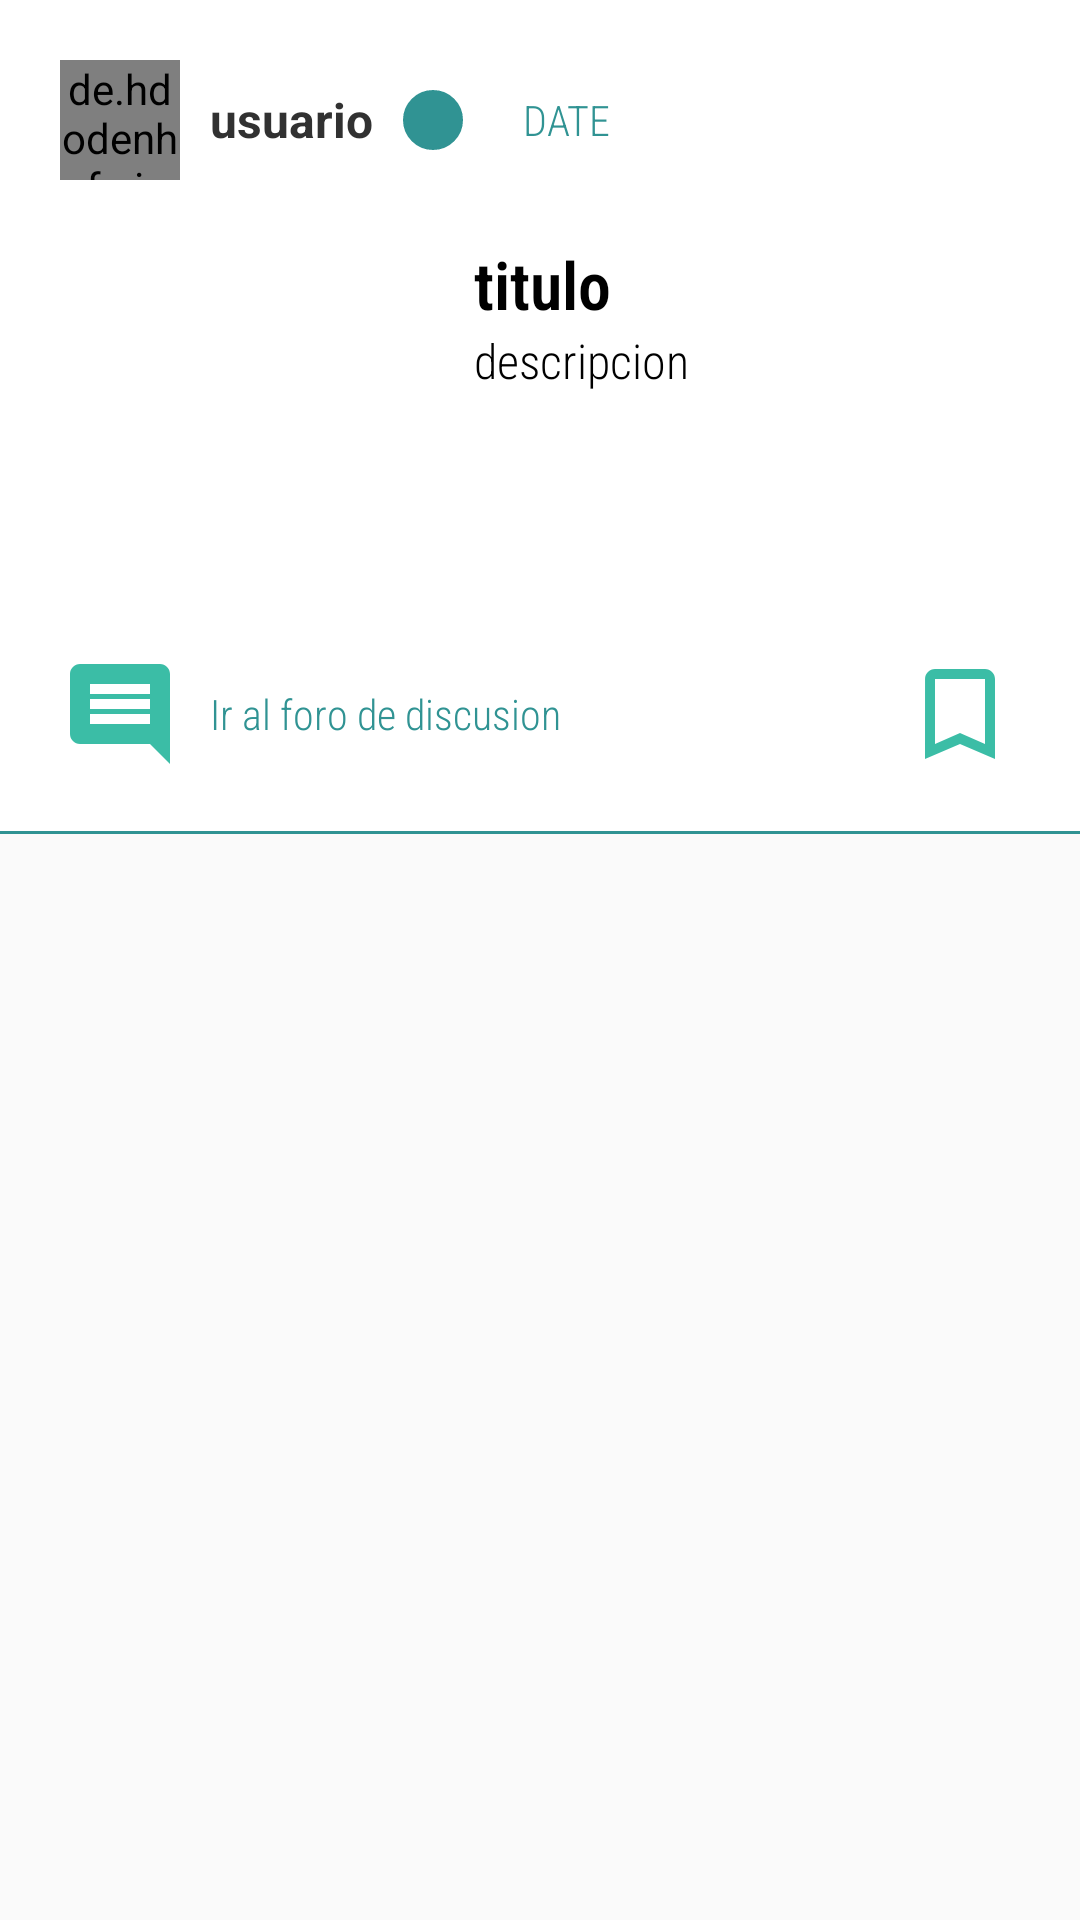

Icon click points for this 1080w x 1920h phone screenshot, format [x,y]:
comment: [120,714]
save: [960,714]
